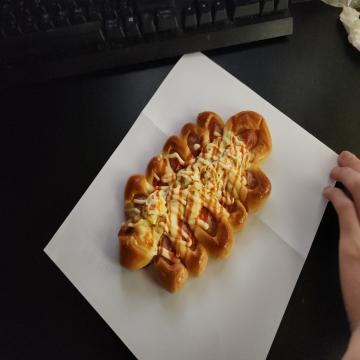pizza_bread: (119, 110, 274, 292)
